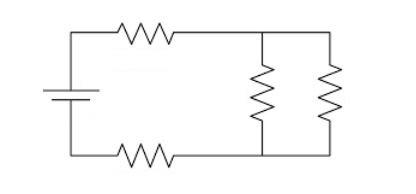resistor: (308, 45, 354, 134), (240, 54, 281, 128), (108, 15, 188, 50), (106, 134, 181, 169)
